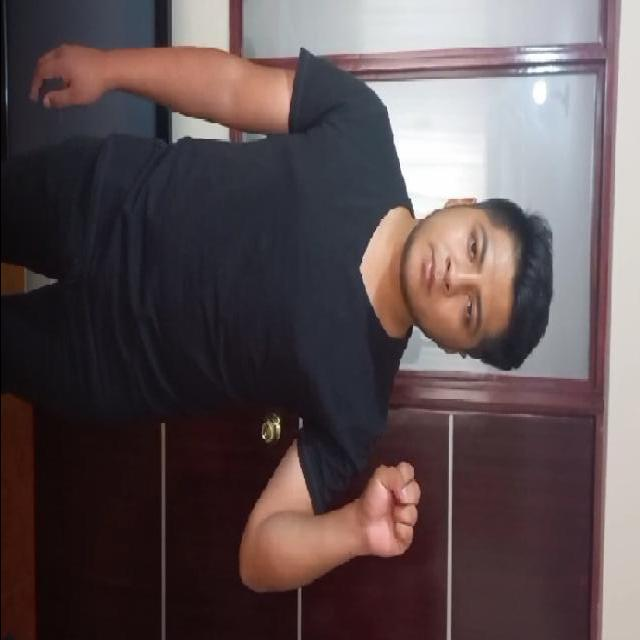S: (336, 437, 442, 588)
